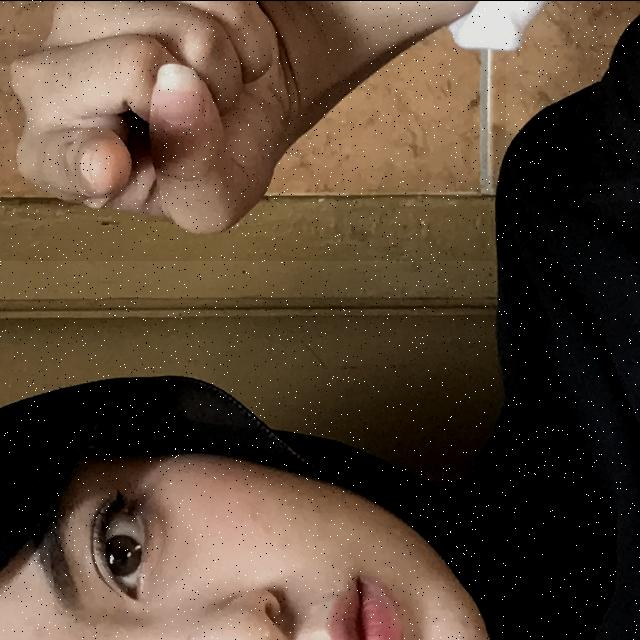kamu: (0, 0, 506, 260)
